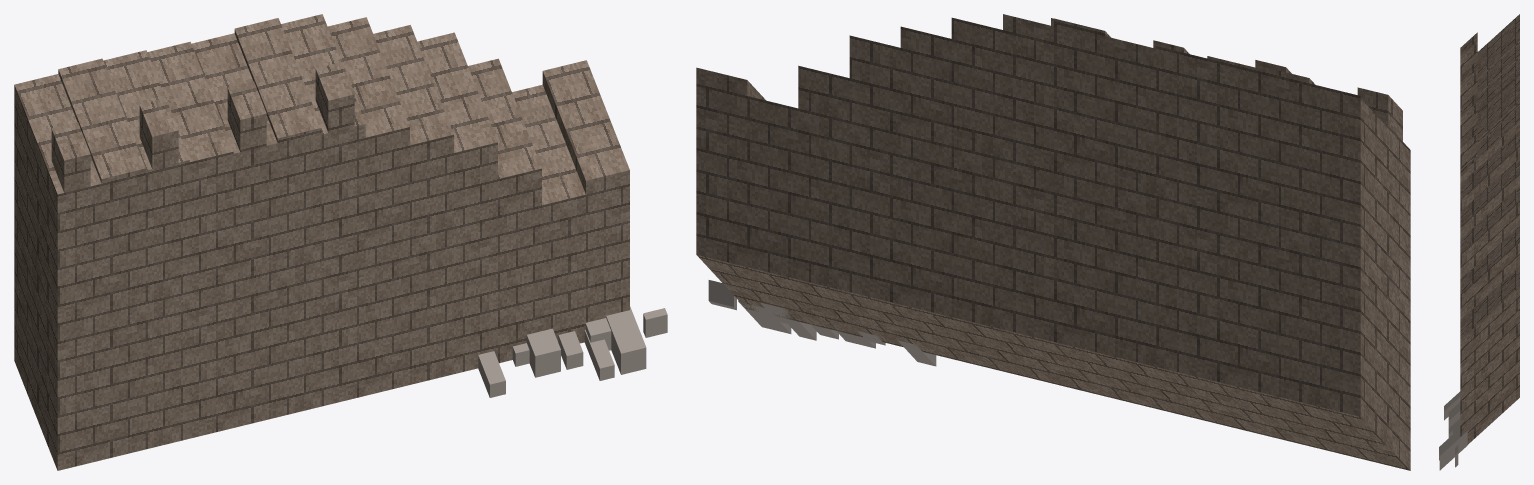
File: wall.glb
3 renders of one model, left to right at view 1: azimuth 30°, elevation 25°; view 2: azimuth 150°, elevation 25°; view 3: azimuth 270°, elevation 25°, orthographic. The views are drawn at different scales.
Visible parts, largest first — view 1: wall; view 2: wall; view 3: wall.
Boxes of the visible parts, x1,y1,x2,y2 form: wall: [14, 14, 667, 470]; wall: [696, 14, 1410, 470]; wall: [1439, 14, 1519, 470].
Size of the model in its own units: 275 by 168 by 45.98.
Materials: 2 (1 with a texture image).
